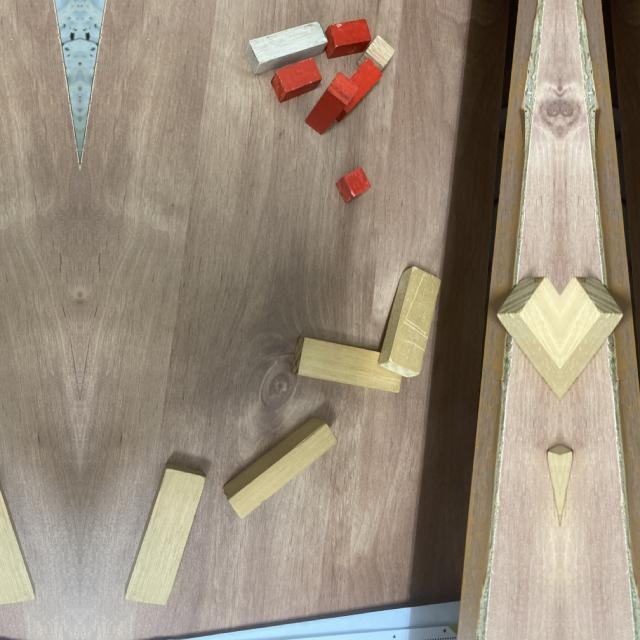block: (246, 22, 328, 75)
cube: (357, 36, 394, 72)
jenga: (125, 463, 206, 606), (223, 418, 336, 518), (497, 278, 560, 402), (560, 278, 623, 402), (378, 266, 441, 378), (292, 336, 402, 393), (0, 486, 35, 606)
red block: (304, 72, 359, 135), (335, 58, 382, 122), (270, 57, 323, 102), (325, 19, 372, 60)
red cube: (336, 168, 372, 204)
